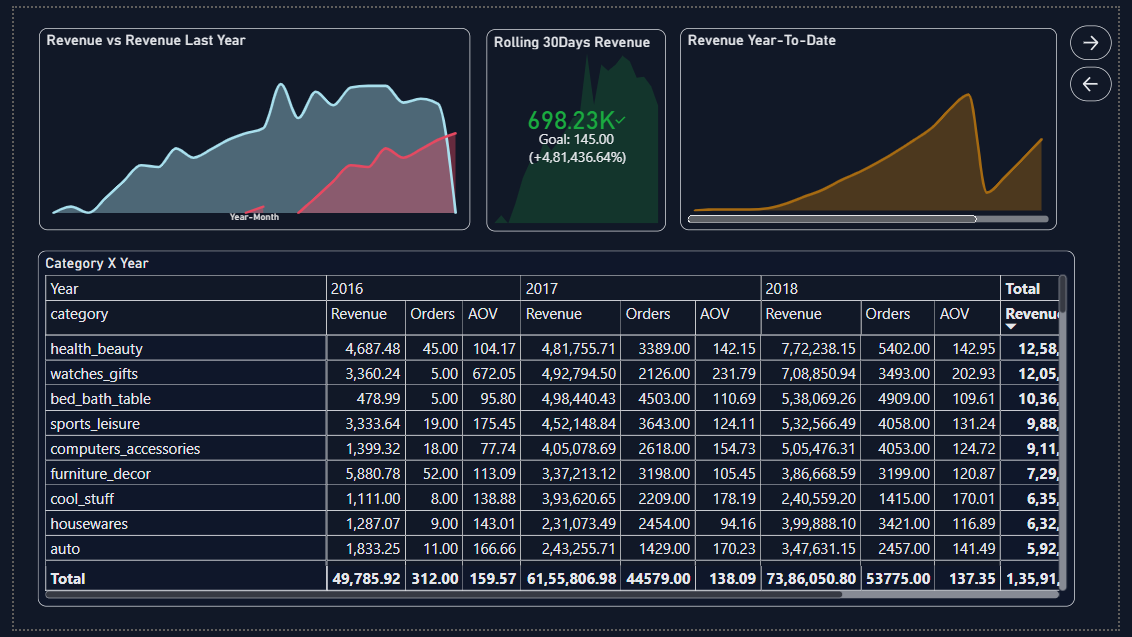

This screenshot's page, from the dashboard's own definition file:
{"tool":"powerbi","page":{"name":"Sales Trends","canvas":[1280,720],"ordinal":2},"visuals":[{"type":"areaChart","title":"Revenue vs Revenue Last Year","fields":{"Category":["DimDate.Year-Month"],"Y":["public bi_fact_sales.Revenue","public bi_fact_sales.Revenue LY"]},"box":[28.8,23.3,500.3,234.4],"z":0},{"type":"kpi","title":"Rolling 30Days Revenue","fields":{"TrendLine":["DimDate.Year-Month"],"Indicator":["public bi_fact_sales.Rolling 30D Revenue"],"Goal":["public bi_fact_sales.Revenue"]},"box":[548.3,24.7,208.4,234.4],"z":1000},{"type":"areaChart","title":"Revenue Year-To-Date","fields":{"Category":["DimDate.Year-Month"],"Y":["public bi_fact_sales.Revenue YTD"]},"box":[772.8,23.2,436.6,234.8],"z":2000},{"type":"pivotTable","title":"Category X Year","fields":{"Rows":["public bi_fact_sales.category"],"Values":["public bi_fact_sales.Revenue","public bi_fact_sales.Orders","public bi_fact_sales.AOV"],"Columns":["DimDate.Year"]},"box":[27.4,281,1202.1,412.6],"z":3000},{"type":"actionButton","box":[1224.1,19.6,47.7,40.4],"z":4000},{"type":"actionButton","box":[1224.1,68.5,47.7,40.4],"z":5000}]}

Visuals, with their boxes in screenshot pixels (x1, y1, x2, y2), scaled from the page's 1280x720 canvas onto the 1132x637 screenshot:
"Revenue vs Revenue Last Year" areaChart: crop(25, 21, 468, 228)
"Rolling 30Days Revenue" kpi: crop(485, 22, 669, 229)
"Revenue Year-To-Date" areaChart: crop(683, 21, 1070, 228)
"Category X Year" pivotTable: crop(24, 249, 1087, 614)
actionButton: crop(1083, 17, 1125, 53)
actionButton: crop(1083, 61, 1125, 96)
